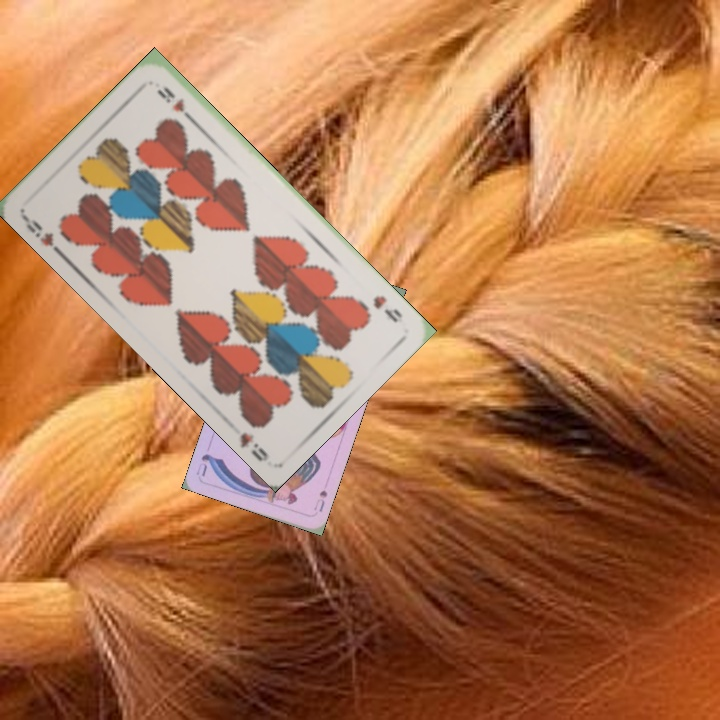H9: (19, 212, 66, 259), (369, 291, 405, 326)
SU: (310, 486, 330, 515)
